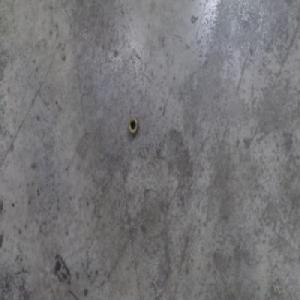Nut: (127, 116, 138, 136)
